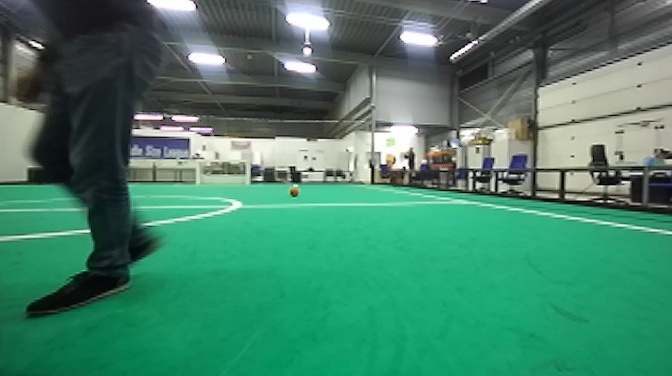ball: (286, 184, 302, 200)
goal: (194, 160, 251, 188)
goalpost: (244, 159, 252, 187), (194, 160, 201, 187)
human: (1, 1, 175, 328)
